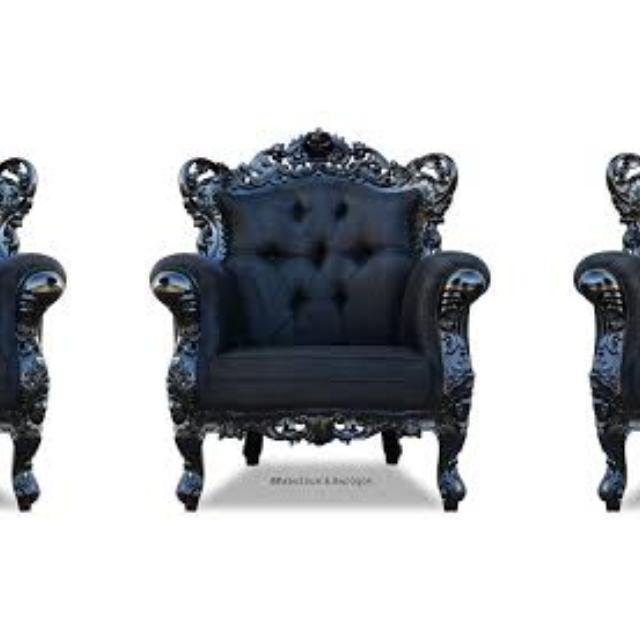obstacle: (153, 86, 522, 526), (541, 86, 640, 526), (0, 86, 61, 526)
